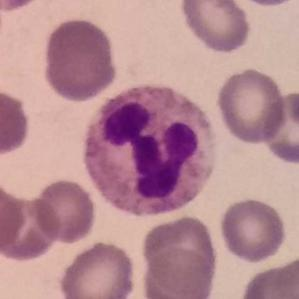Neutrophil: (76, 76, 224, 223)
RBC: (40, 15, 120, 104), (214, 66, 288, 146), (56, 238, 138, 299), (217, 196, 289, 265), (30, 176, 99, 245), (0, 193, 62, 264), (138, 245, 219, 299), (177, 0, 254, 55), (260, 90, 299, 166), (237, 258, 299, 299), (0, 85, 33, 159), (0, 177, 28, 255), (271, 254, 299, 299), (0, 0, 48, 14)
